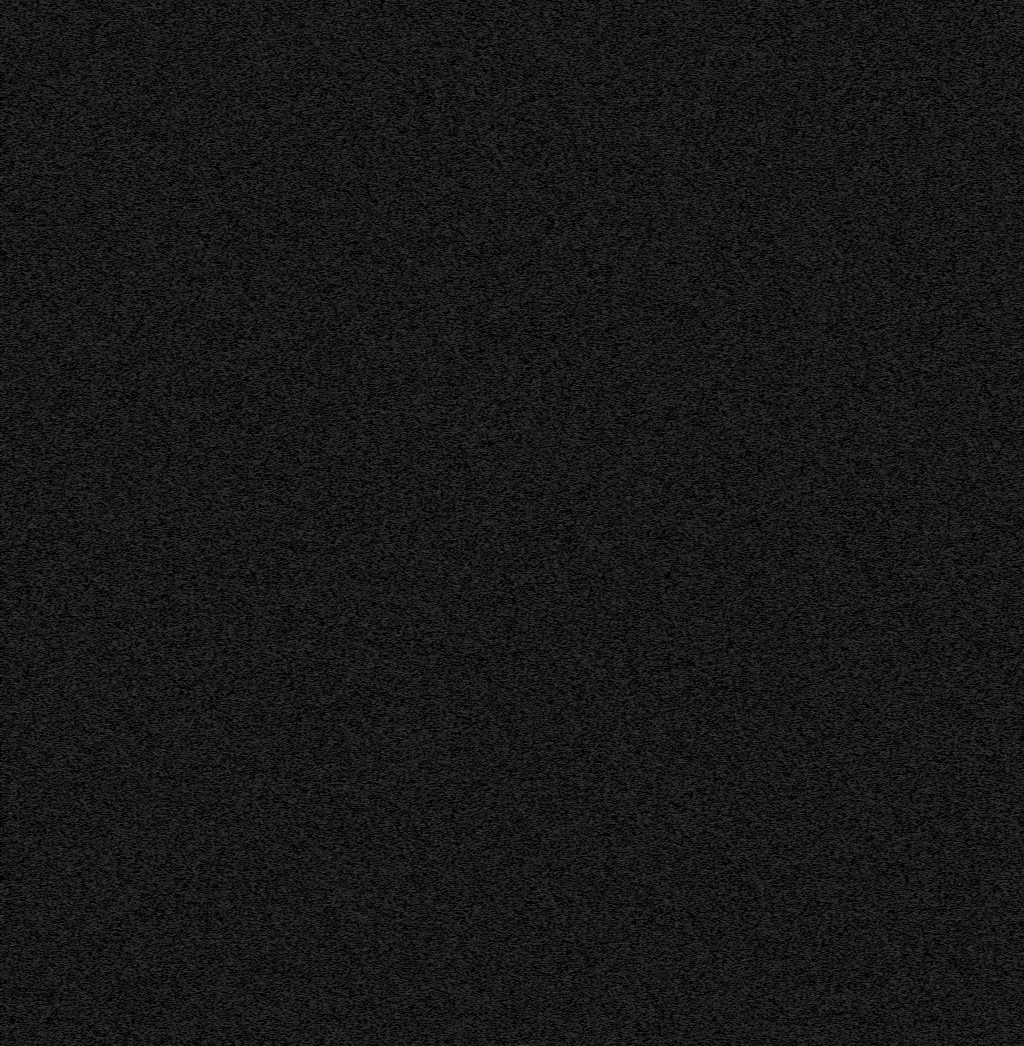wv_am: (137, 269, 142, 1046), (137, 121, 142, 267), (137, 0, 142, 118)
wv_lsb: (791, 206, 797, 228), (169, 7, 172, 27), (168, 64, 172, 76), (791, 653, 796, 661), (169, 33, 172, 46), (792, 1011, 796, 1020), (791, 872, 796, 879), (169, 526, 172, 536), (169, 636, 172, 646), (168, 106, 172, 113), (168, 77, 172, 84), (169, 662, 172, 671), (169, 648, 172, 657), (169, 503, 172, 511), (168, 85, 172, 91), (792, 1022, 796, 1028), (169, 625, 172, 633), (169, 515, 172, 522), (169, 571, 172, 578), (792, 647, 796, 652), (792, 327, 796, 332), (792, 82, 796, 87), (792, 1000, 796, 1004), (792, 388, 796, 392), (792, 320, 796, 324), (169, 701, 172, 706), (169, 1004, 172, 1008), (169, 462, 172, 466), (169, 53, 172, 57), (169, 47, 172, 51), (792, 758, 796, 761), (792, 445, 796, 448), (792, 343, 796, 346), (169, 719, 172, 722), (169, 123, 172, 126), (169, 100, 172, 103), (169, 92, 172, 95), (169, 711, 172, 714), (169, 707, 172, 710), (792, 928, 795, 931), (792, 527, 795, 530)
wv_usb: (795, 353, 801, 710), (795, 70, 800, 192), (795, 908, 801, 997), (795, 235, 800, 324), (795, 5, 800, 69), (795, 998, 801, 1046), (795, 202, 800, 234), (795, 325, 800, 352), (796, 747, 800, 770), (796, 778, 800, 797), (796, 801, 800, 818), (796, 720, 800, 736), (795, 193, 800, 201), (796, 737, 800, 746), (796, 890, 799, 901), (796, 828, 799, 839), (796, 711, 800, 719), (796, 862, 799, 870), (796, 773, 800, 777), (796, 874, 799, 878), (796, 883, 799, 886), (796, 857, 799, 860), (796, 853, 799, 856), (796, 849, 799, 852), (796, 845, 799, 848), (796, 819, 799, 822)
wv_wbfm: (645, 0, 669, 1046)
